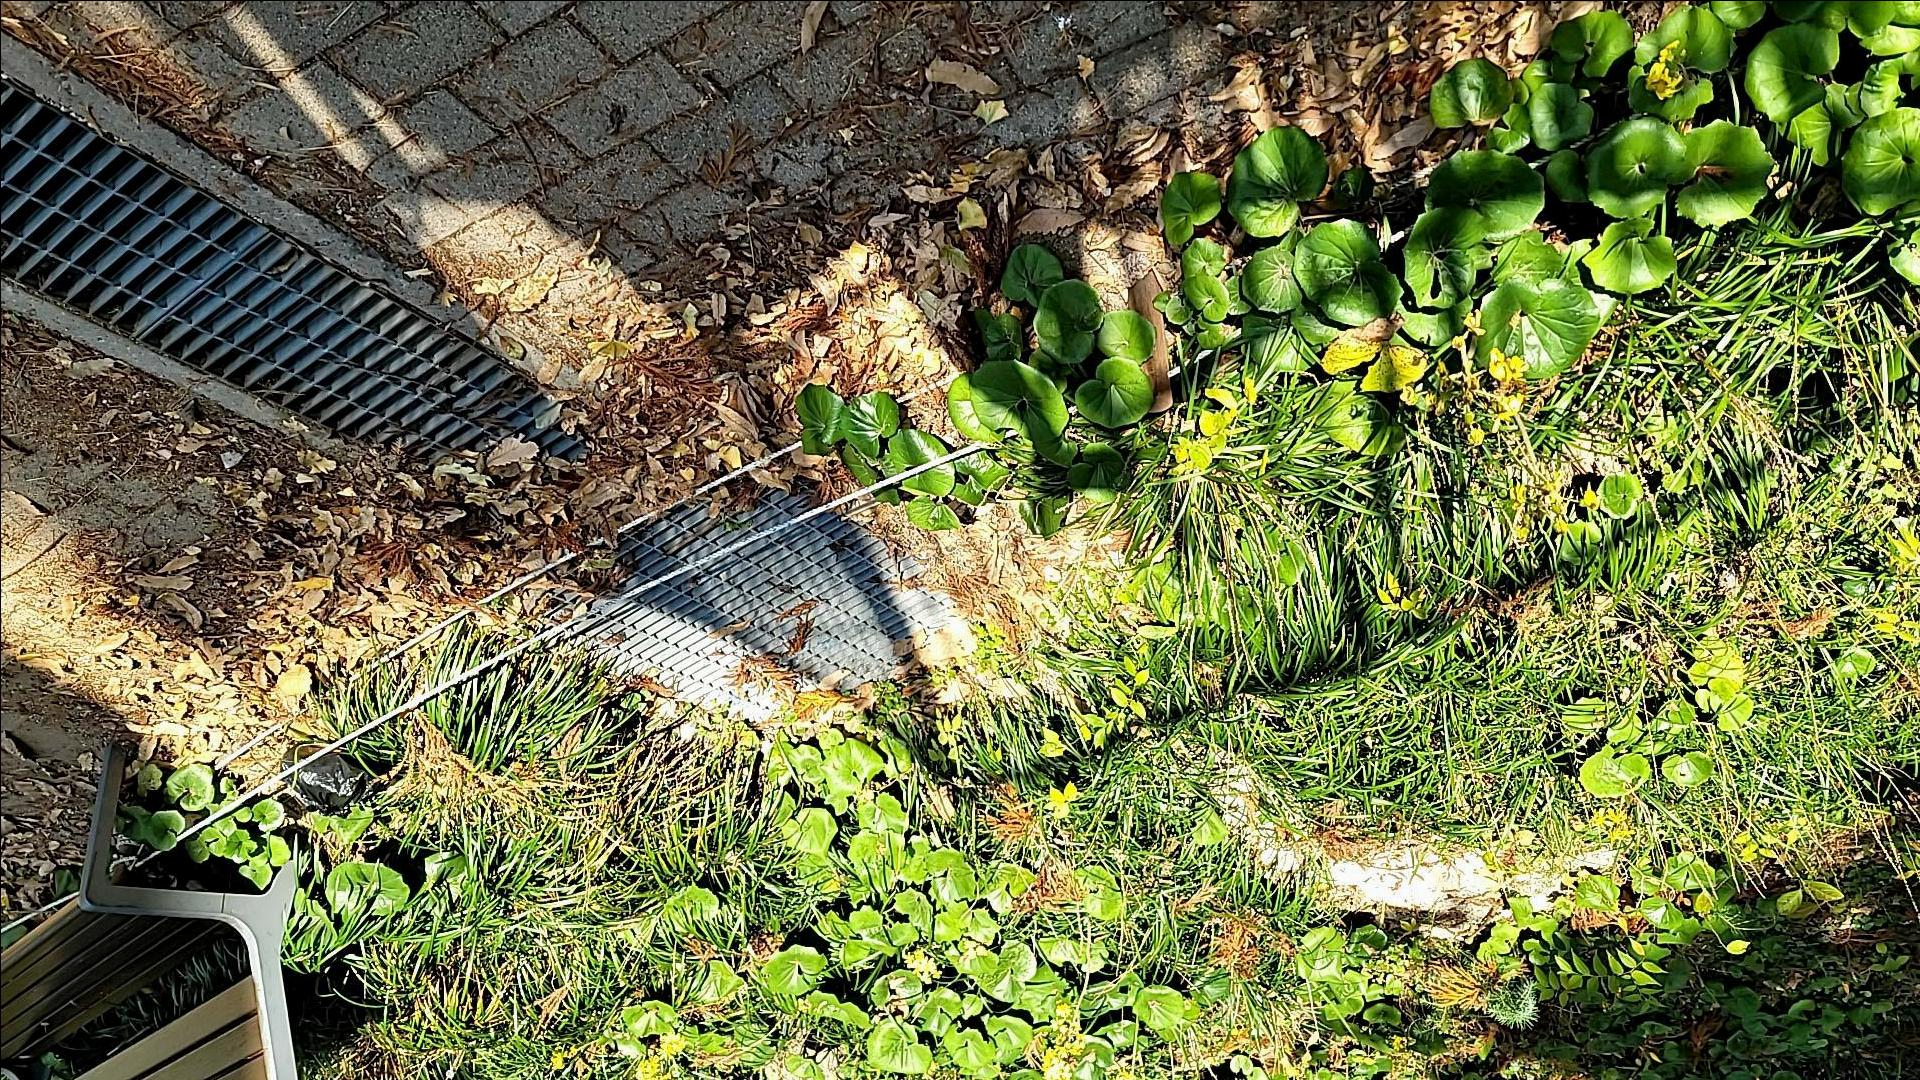black_bag: (276, 738, 372, 825)
